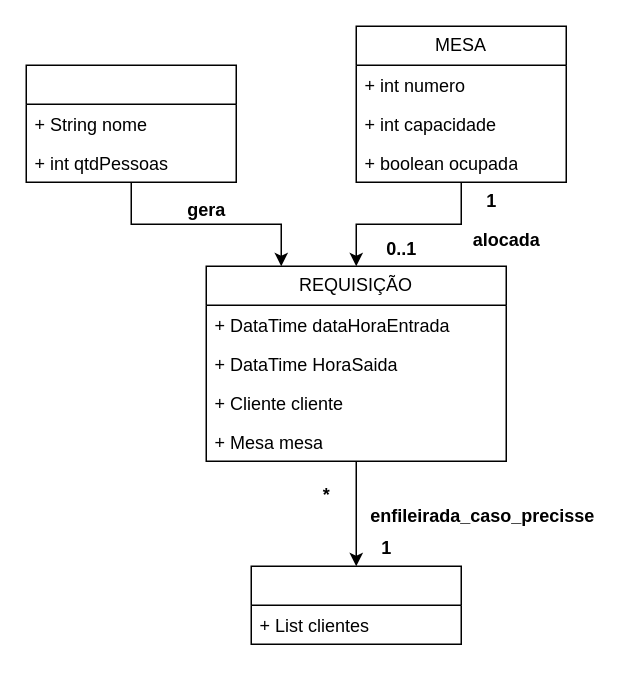
The diagram is 620 pixels wide and 675 high, and some of its shapes have lost their labels. The shapes that lost their labels are listed below. From the top down, each one's box as (x1, y1, x2, y2) in pixels, then its label:
(25, 64, 236, 182): CLIENTE
(250, 565, 461, 644): FILA ESPERA
